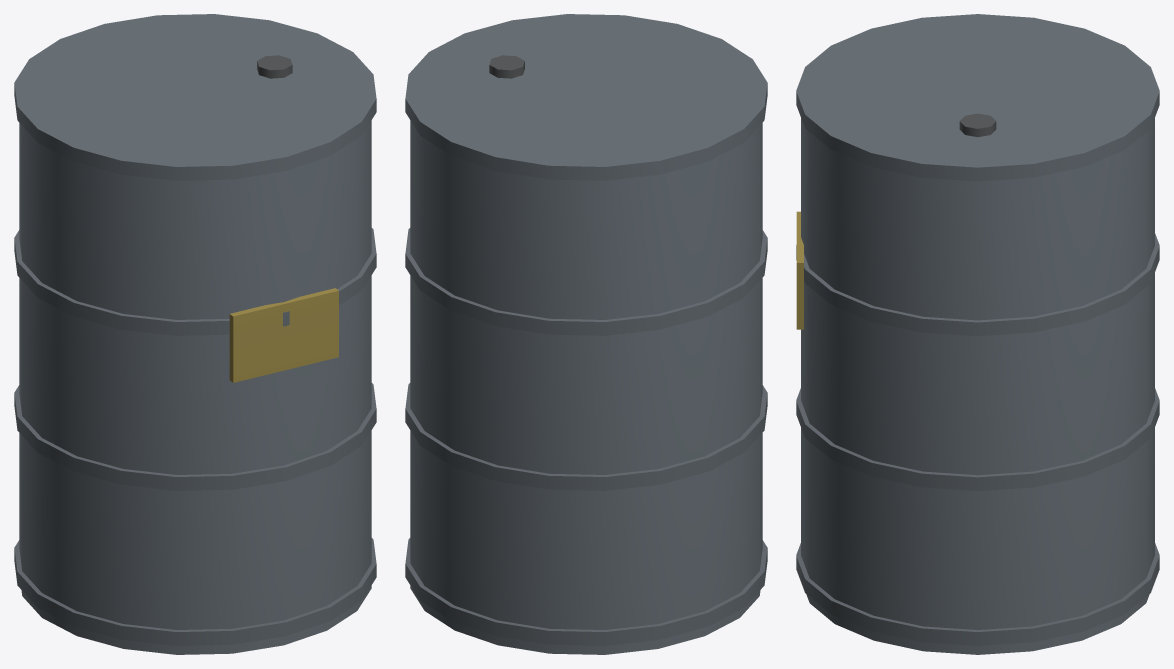
Rendered from drum_steel.glb.
3 views of the same model, side by side, from view 1: azimuth 30°, elevation 25°; view 2: azimuth 150°, elevation 25°; view 3: azimuth 270°, elevation 25° (orthographic).
Visible parts, largest first — view 1: drum_steel; view 2: drum_steel; view 3: drum_steel.
Part boxes in pixels (x1=…): drum_steel: x1=14, y1=14, x2=376, y2=654; drum_steel: x1=405, y1=14, x2=767, y2=654; drum_steel: x1=796, y1=14, x2=1159, y2=654.
Bounding box in the file's own units: 0.596 × 0.9 × 0.596.
